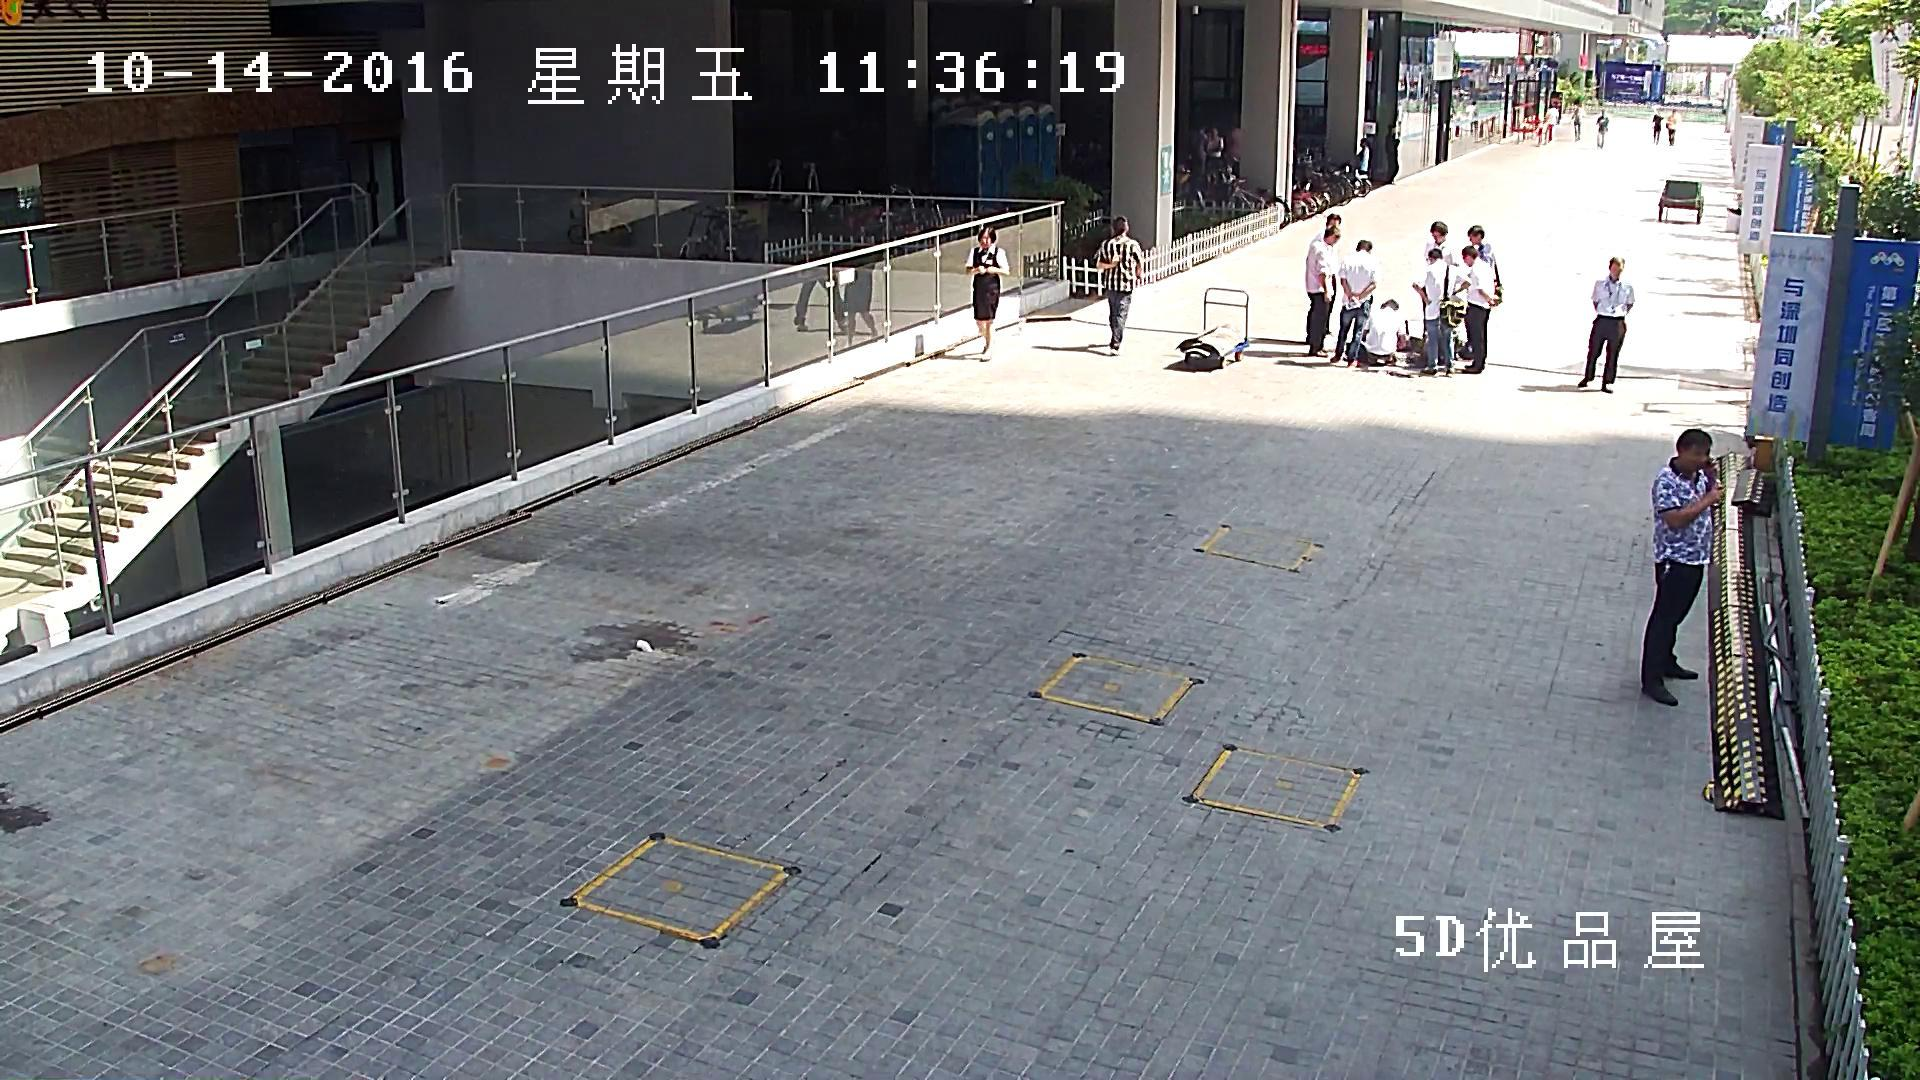person: (1641, 429, 1724, 705), (1578, 256, 1634, 393), (1412, 248, 1470, 376), (1095, 216, 1142, 355), (965, 226, 1009, 362), (1330, 239, 1375, 366), (1305, 224, 1340, 357), (1461, 246, 1495, 373), (1356, 298, 1405, 366), (1466, 224, 1502, 304), (843, 263, 877, 345), (792, 274, 843, 331), (1424, 220, 1460, 266), (1351, 138, 1369, 194), (1385, 125, 1400, 183), (1204, 125, 1224, 167), (1543, 103, 1559, 144), (1596, 109, 1608, 149), (1666, 108, 1677, 145), (1652, 110, 1664, 145), (1571, 107, 1581, 141), (1469, 101, 1479, 135)
